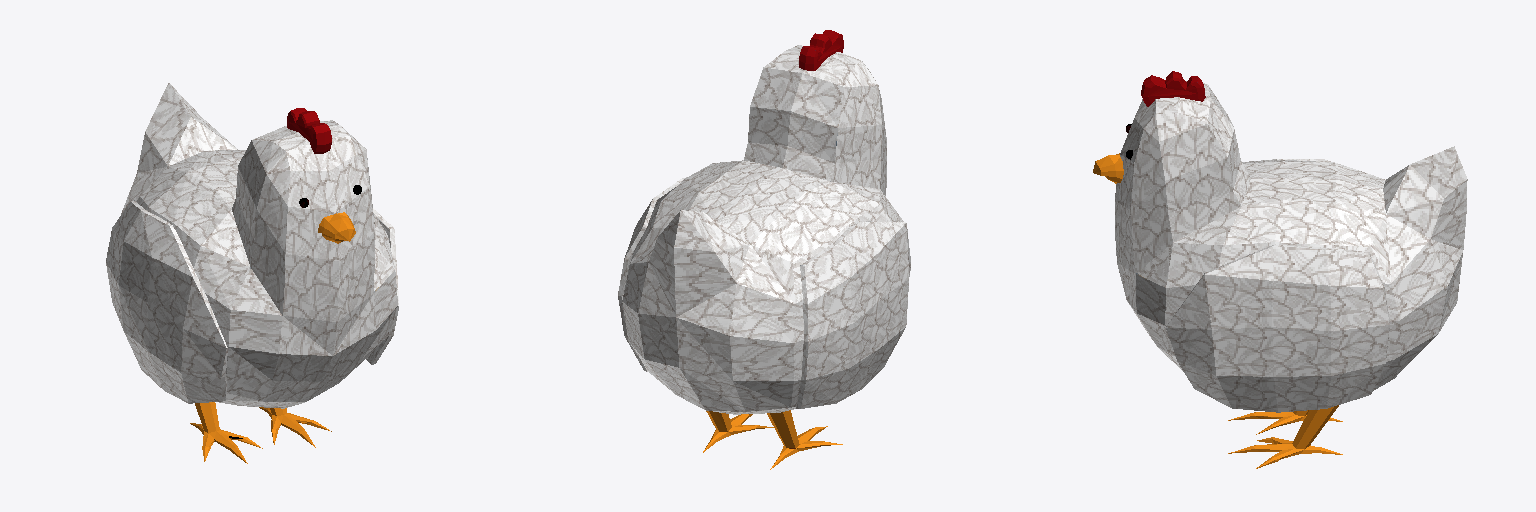
The picture shows the model from 3 angles: view 1: azimuth 30°, elevation 25°; view 2: azimuth 150°, elevation 25°; view 3: azimuth 270°, elevation 25°; orthographic projection.
Parts seen in each view (by area): view 1: hardcore_chicken:Mesh; view 2: hardcore_chicken:Mesh; view 3: hardcore_chicken:Mesh.
Boxes of the visible parts, x1=… form: hardcore_chicken:Mesh: x1=106, y1=83, x2=398, y2=463; hardcore_chicken:Mesh: x1=618, y1=30, x2=910, y2=469; hardcore_chicken:Mesh: x1=1093, y1=71, x2=1467, y2=468.
Size of the model in its own units: 2.72 by 4.24 by 3.95.
1 materials, 1 textured.